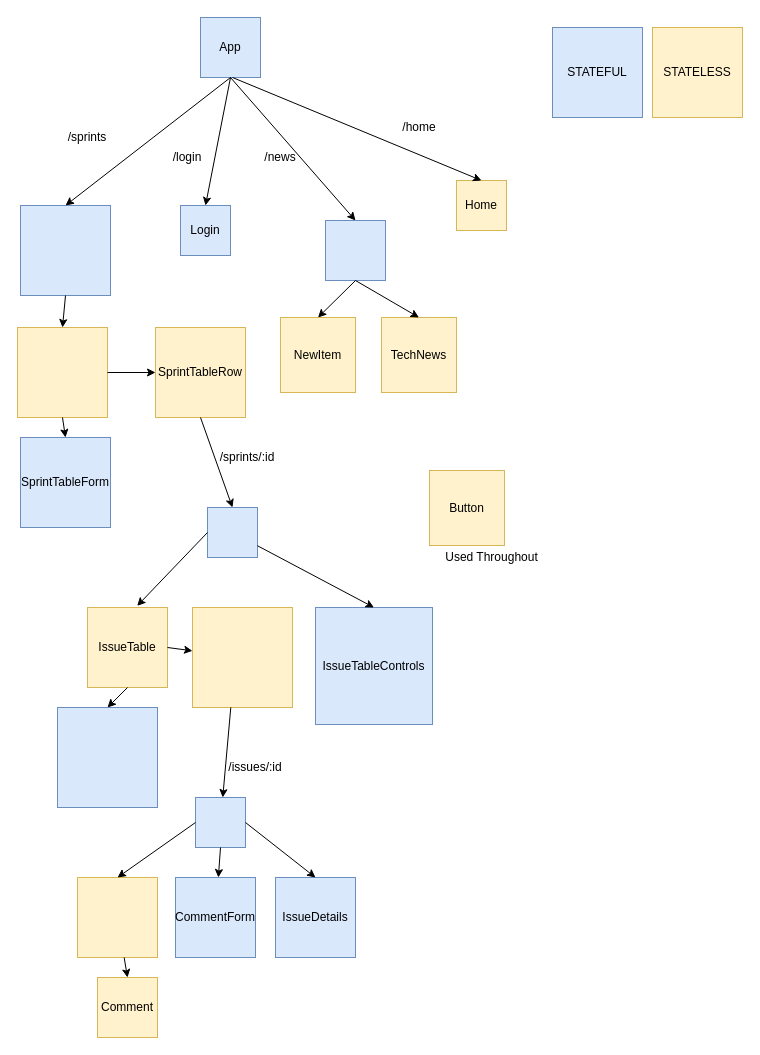
Image size: 760x1055. Some labels were removed from this diagram. The shapes that lost their labels are listed below. From the top down, each one's centre as x and y in pixels, then its label:
At pixel 65 250: "SprintIndex".
At pixel 355 250: "NewsList".
At pixel 62 372: "SprintTable".
At pixel 232 532: "Sprint".
At pixel 242 657: "IssueTableRow".
At pixel 107 757: "IssueTableForm".
At pixel 220 822: "Issue".
At pixel 117 917: "CommentList".
